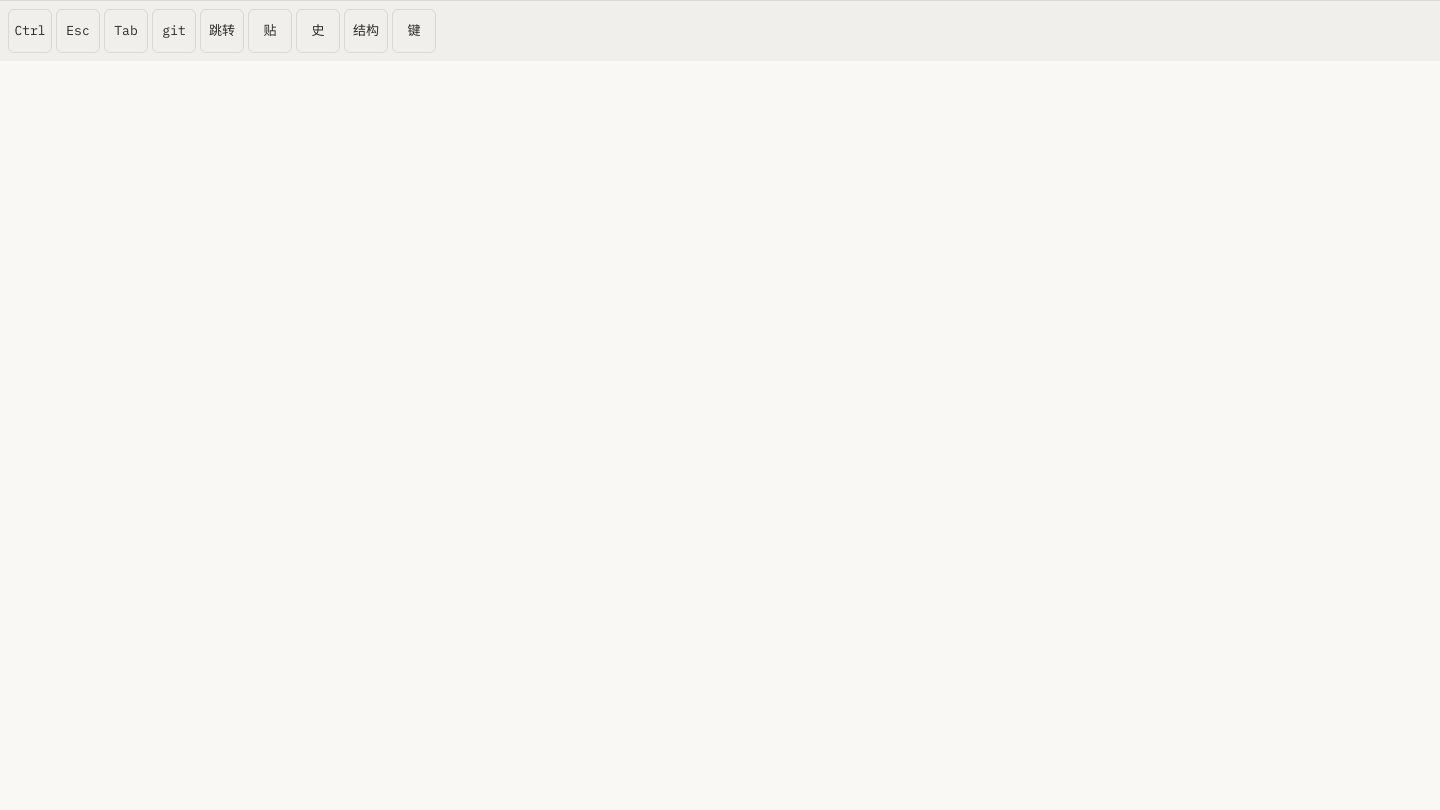
history key (D-028a write boundary) › fills the chosen prompt into the local strip and never sends
Click the button with test id "phone-key-history": (318, 31) 296,9 -> 340,53
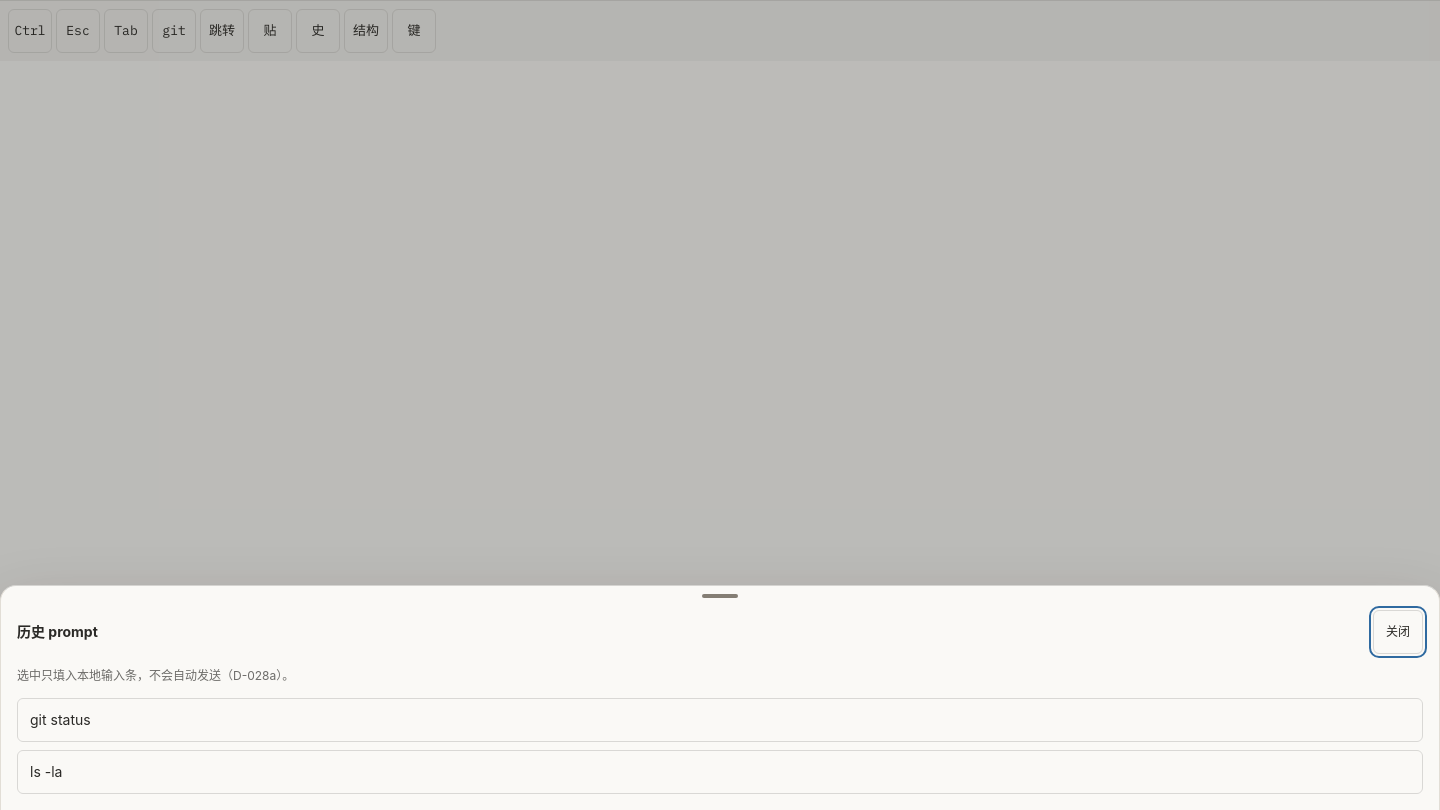
Result: the dialog with test id "phone-history-sheet" is shown at 0,585 -> 1439,809
Result: the elements with test id "phone-history-item" read "git status", "ls -la", in this order
Click the list item with test id "phone-history-item" showing "git status": (60, 719) 17,698 -> 1423,742
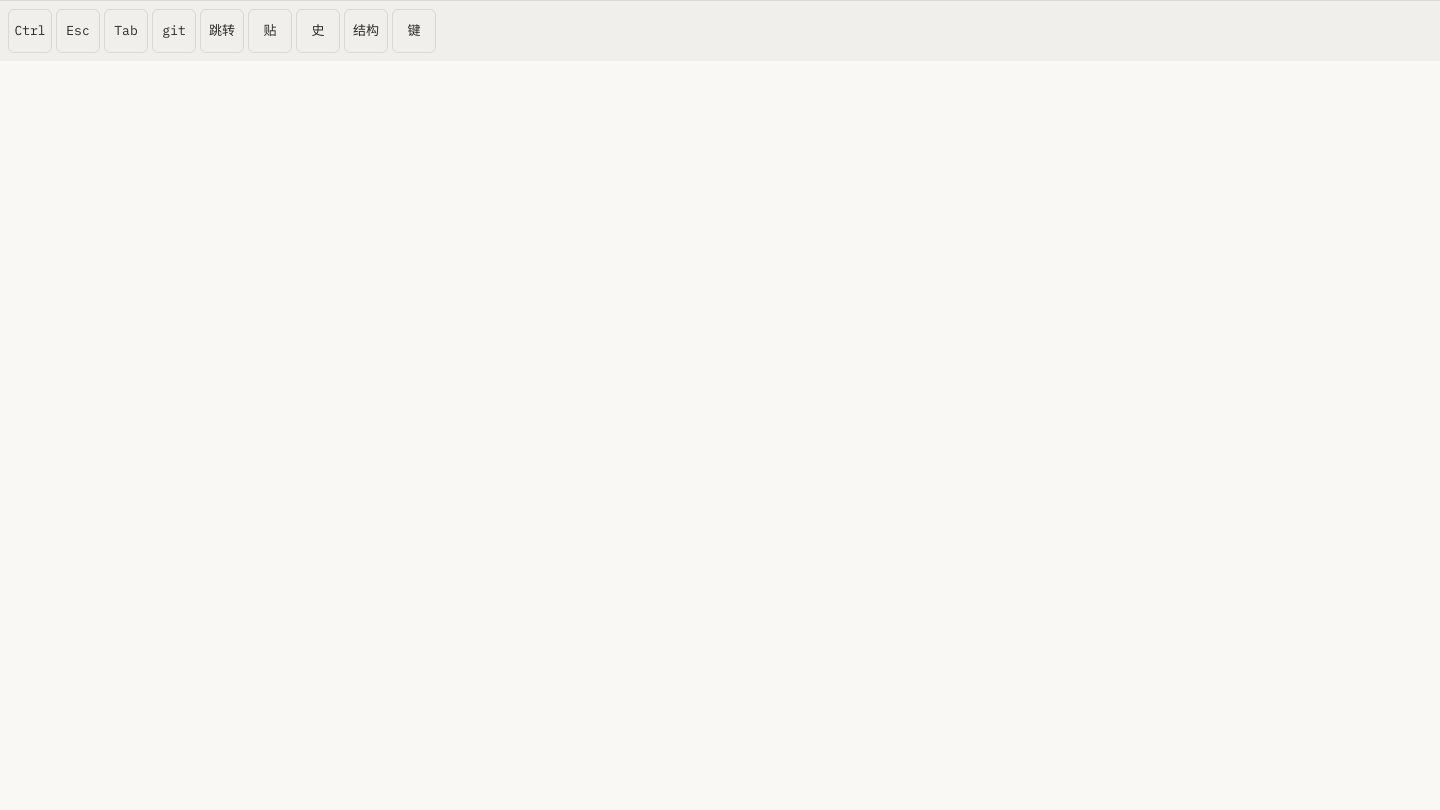
Result: the dialog with test id "phone-history-sheet" is gone
